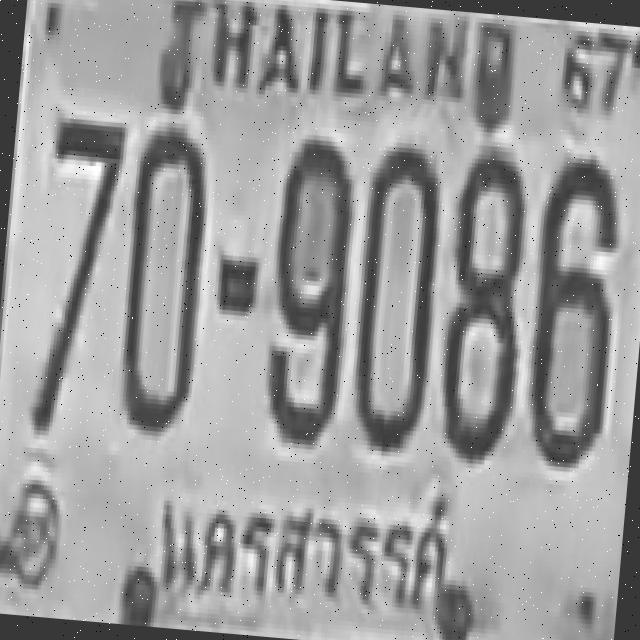0: (112, 122, 212, 436), (346, 138, 446, 452), (258, 132, 358, 442)
6: (518, 151, 624, 465)
7: (27, 110, 125, 432)
8: (432, 146, 533, 464)
9: (258, 132, 358, 442)
NakhonSawan: (144, 462, 452, 619)
